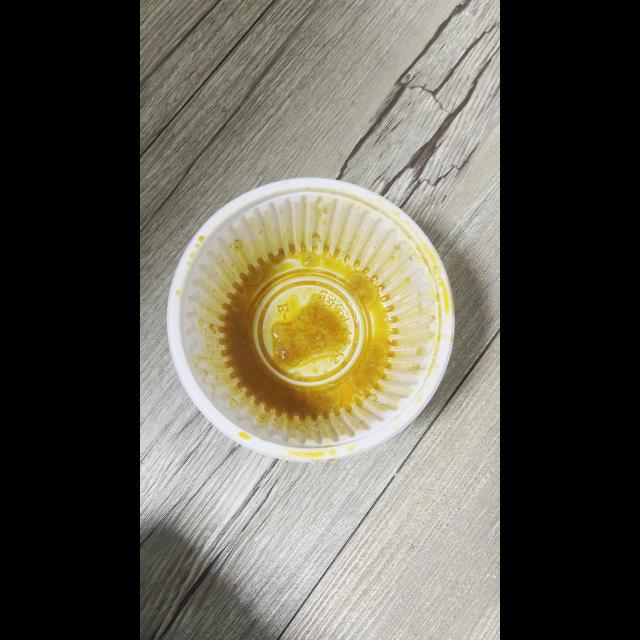dirty: (166, 208, 458, 464)
